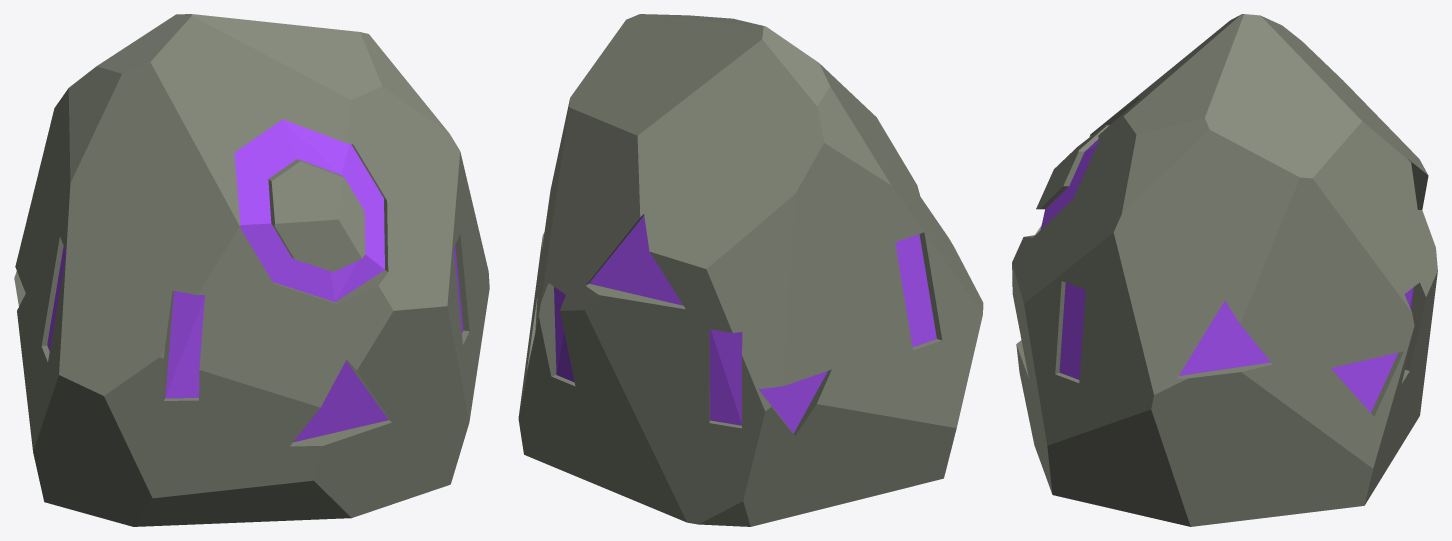
Rendered from RuneRock.fbx.
3 views of the same model, side by side, from view 1: azimuth 30°, elevation 25°; view 2: azimuth 150°, elevation 25°; view 3: azimuth 270°, elevation 25° (orthographic). The views are drawn at different scales.
Parts seen in each view (by area): view 1: RuneRock, RuneRock_Runes; view 2: RuneRock, RuneRock_Runes; view 3: RuneRock, RuneRock_Runes.
Boxes of the visible parts, <box> form: RuneRock: <box>14,14,489,526</box>; RuneRock_Runes: <box>47,119,463,442</box>; RuneRock: <box>518,14,983,526</box>; RuneRock_Runes: <box>554,215,936,433</box>; RuneRock: <box>1012,14,1437,526</box>; RuneRock_Runes: <box>1040,117,1413,412</box>.
Size of the model in its own units: 9.29 by 9.02 by 8.52.
